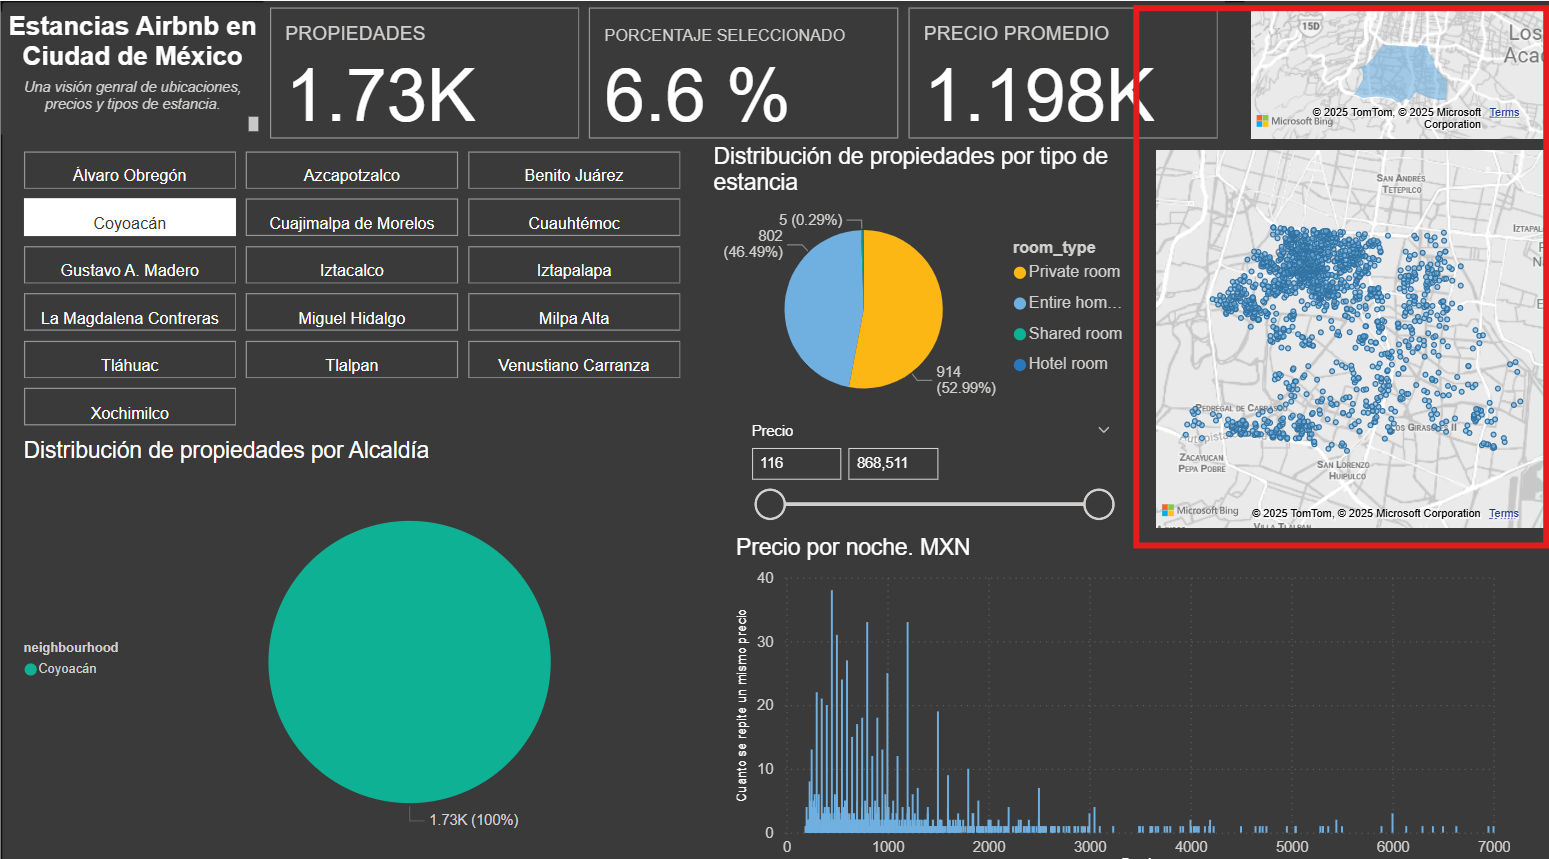

This screenshot's page, from the dashboard's own definition file:
{"tool":"powerbi","page":{"name":"Dashboard","canvas":[1280,720],"ordinal":0},"visuals":[{"type":"advancedSlicerVisual","fields":{"Values":["Sheet1.neighbourhood"]},"box":[13.7,118,553,241.5],"z":0},{"type":"map","fields":{"Y":["Sheet1.latitude"],"X":["Sheet1.longitude"]},"box":[946.2,117.6,333.9,321.7],"z":1000},{"type":"filledMap","fields":{"Category":["Sheet1.Mapa_Alcaldia"]},"box":[1024.4,0,256.4,118.6],"z":2000},{"type":"pieChart","title":"Distribución de propiedades por Alcaldía","fields":{"Category":["Sheet1.neighbourhood"],"Y":["CountNonNull(Sheet1.neighbourhood)"]},"box":[13.7,359.5,553,348.6],"z":3000},{"type":"cardVisual","title":"propiedades","fields":{"Data":["Sheet1.TOTAL PROPIEDADES","Sheet1.PercentageSelected","Sheet1.PROMEDIO PRECIOS"]},"box":[216.7,0,791.7,118.3],"z":4000},{"type":"pieChart","title":"Distribución de propiedades por tipo de estancia","fields":{"Category":["Sheet1.room_type"],"Y":["CountNonNull(Sheet1.room_type)"]},"box":[582.6,117.6,363.6,231.1],"z":5000},{"type":"textbox","title":"Estancias Airbnb en Ciudad de México","box":[0,8.2,216.8,101.6],"z":6000},{"type":"columnChart","title":"Precio por noche. MXN","fields":{"Category":["Sheet1.price"],"Y":["CountNonNull(Sheet1.price)"]},"box":[600.2,439.3,647.5,281.2],"z":7000},{"type":"slicer","fields":{"Values":["Sheet1.price"]},"box":[605.6,342,320.4,97.3],"z":8000}]}

Visuals, with their boxes in screenshot pixels (x1, y1, x2, y2), scaled from the page's 1280x720 canvas onto the 1549x859 screenshot:
advancedSlicerVisual - Sheet1.neighbourhood: locate(17, 141, 686, 429)
map - Sheet1.latitude x Sheet1.longitude: locate(1145, 140, 1548, 524)
filledMap - Sheet1.Mapa_Alcaldia: locate(1240, 0, 1548, 141)
"Distribución de propiedades por Alcaldía" pieChart: locate(17, 429, 686, 845)
"propiedades" cardVisual: locate(262, 0, 1220, 141)
"Distribución de propiedades por tipo de estancia" pieChart: locate(705, 140, 1145, 416)
"Estancias Airbnb en Ciudad de México" textbox: locate(0, 10, 262, 131)
"Precio por noche. MXN" columnChart: locate(726, 524, 1510, 858)
slicer - Sheet1.price: locate(733, 408, 1121, 524)
